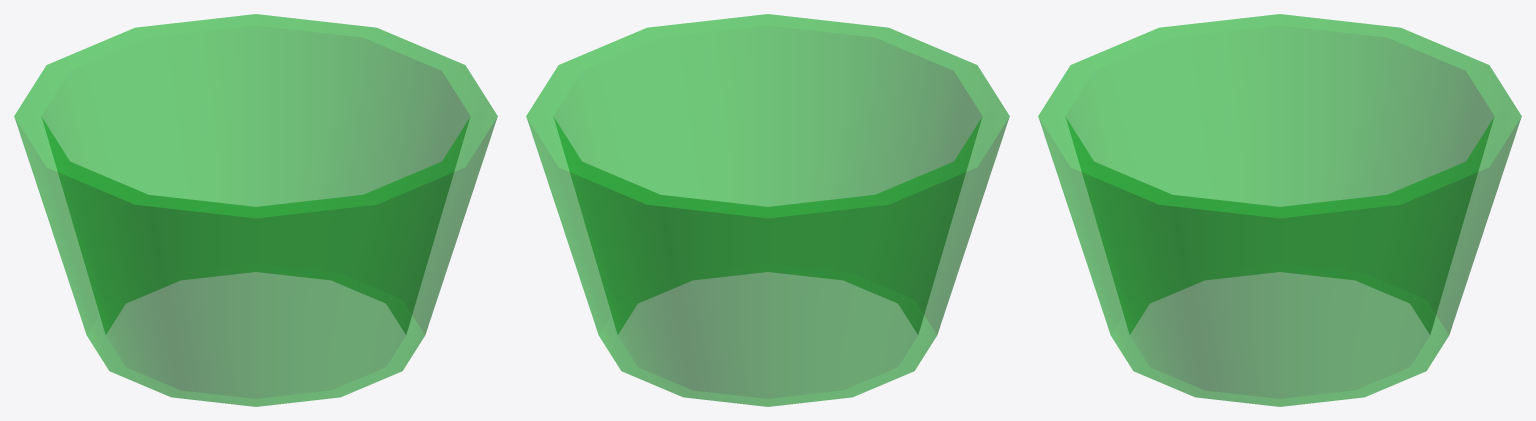
File: startPod.glb
3 views of the same model, side by side, from view 1: azimuth 30°, elevation 25°; view 2: azimuth 150°, elevation 25°; view 3: azimuth 270°, elevation 25° (orthographic).
Visible parts, largest first — view 1: StartPod; view 2: StartPod; view 3: StartPod.
Boxes of the visible parts, bbox=[...] form: StartPod: bbox=[14, 14, 497, 406]; StartPod: bbox=[526, 14, 1009, 406]; StartPod: bbox=[1038, 14, 1521, 406].
Size of the model in its own units: 2 by 1 by 2.
